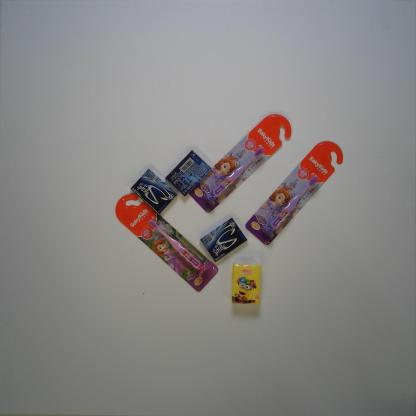Gum: (164, 149, 212, 197), (130, 168, 178, 214), (200, 217, 248, 262)
Personal Hygiene: (188, 112, 292, 214), (245, 140, 344, 246), (115, 194, 219, 292)
Tissue: (231, 263, 262, 306)
